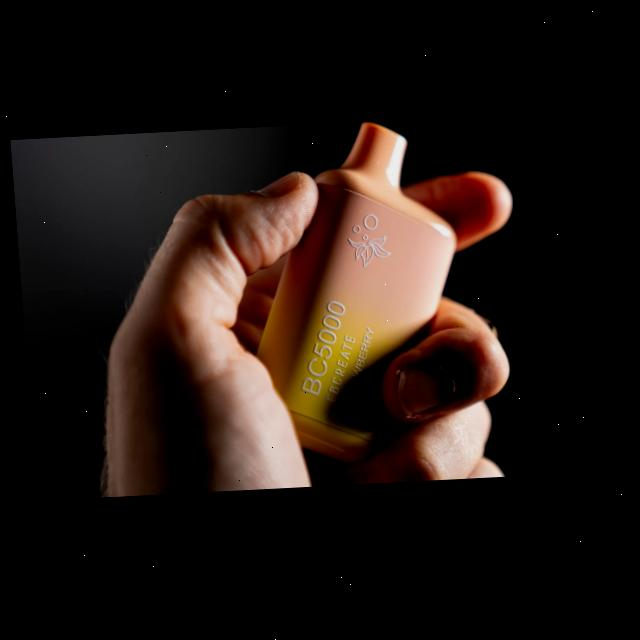vape: (236, 122, 466, 473)
